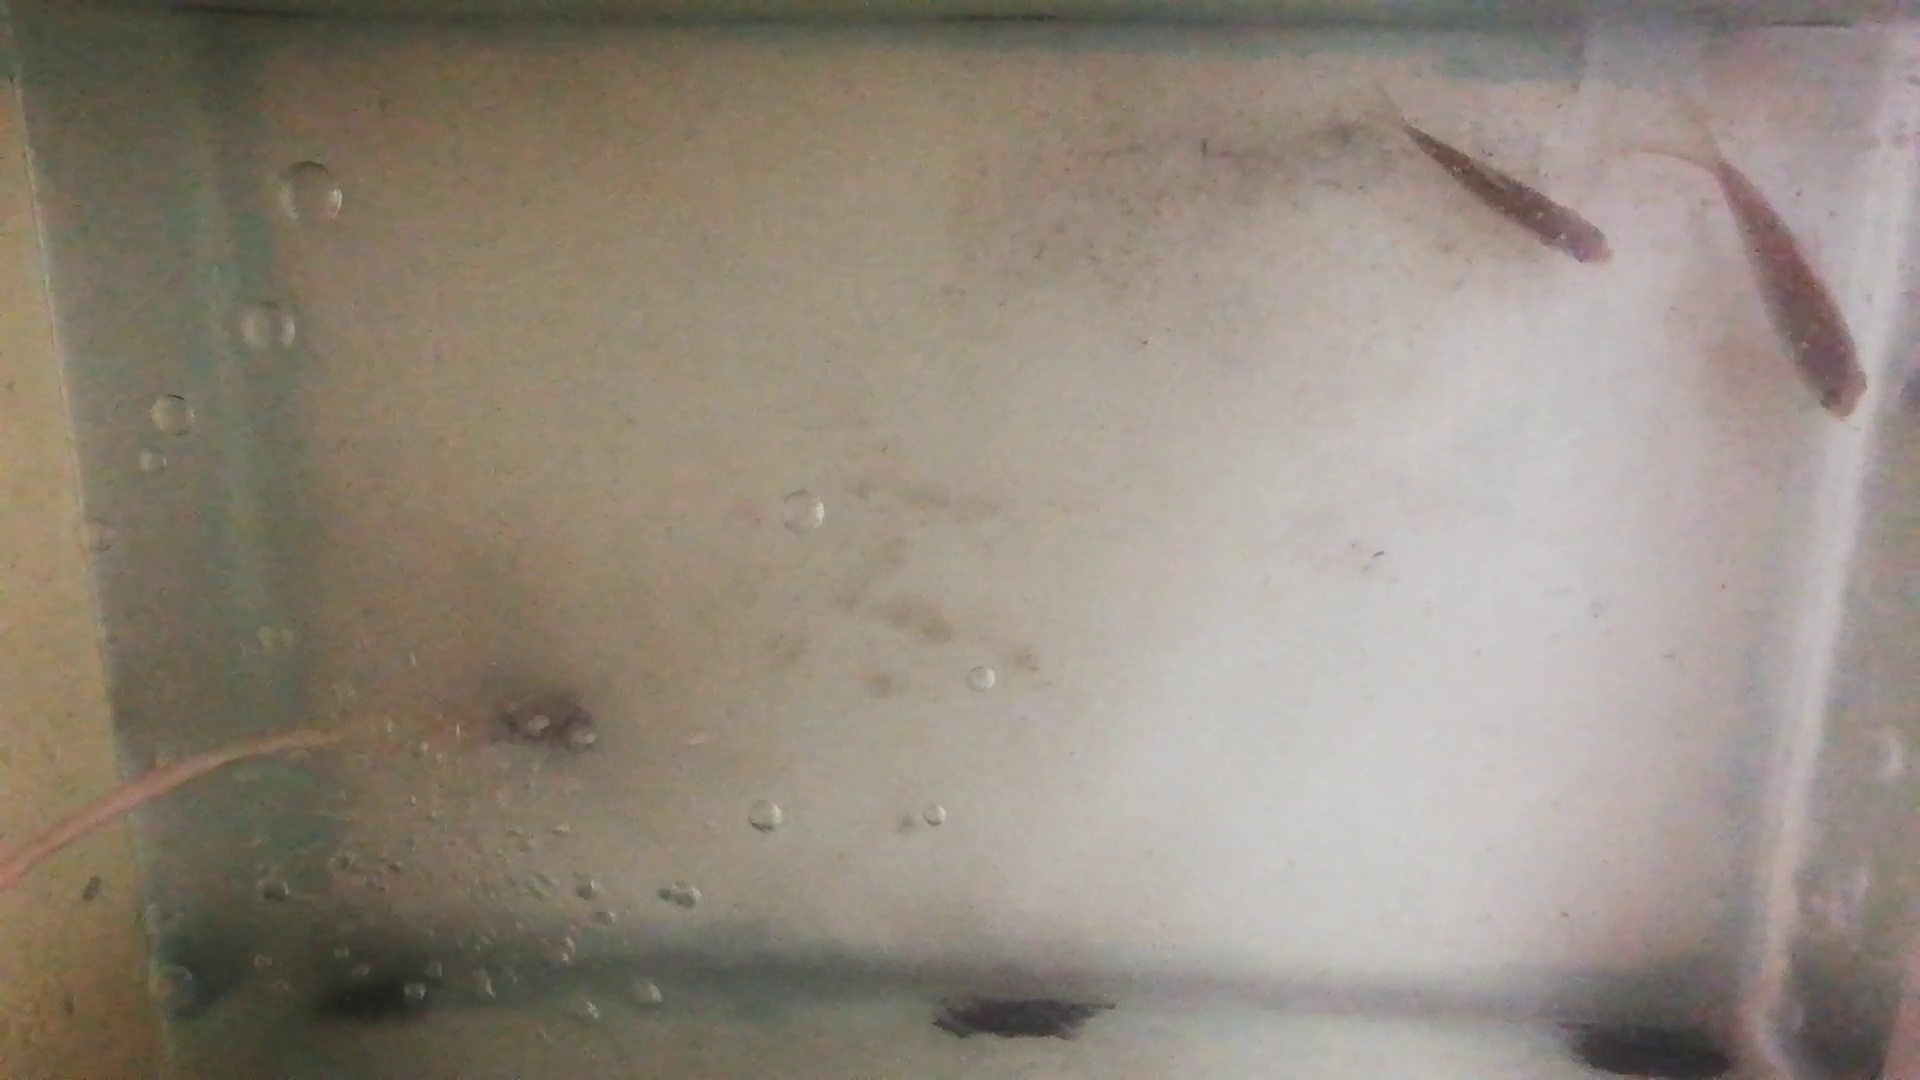fish: (1712, 153, 1869, 419), (1404, 124, 1614, 268)
